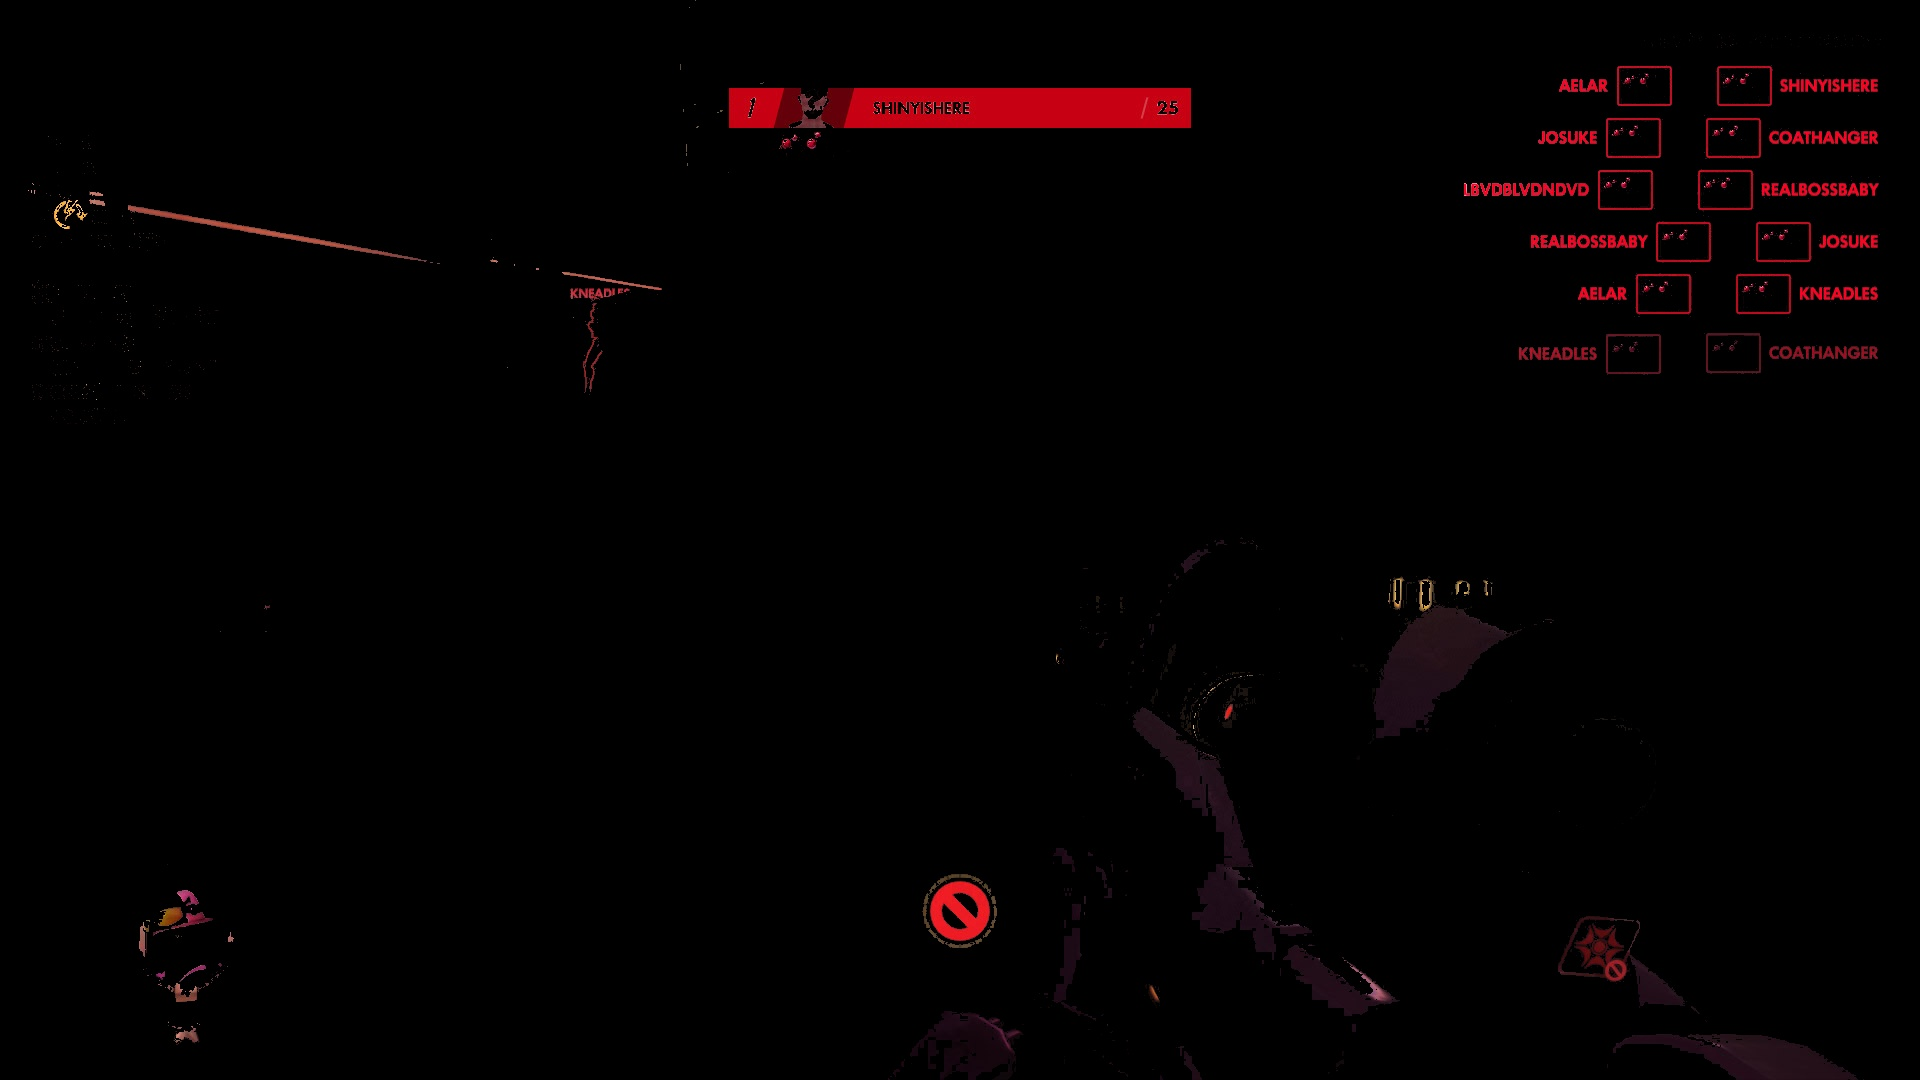widowmaker: (583, 303, 611, 401)
